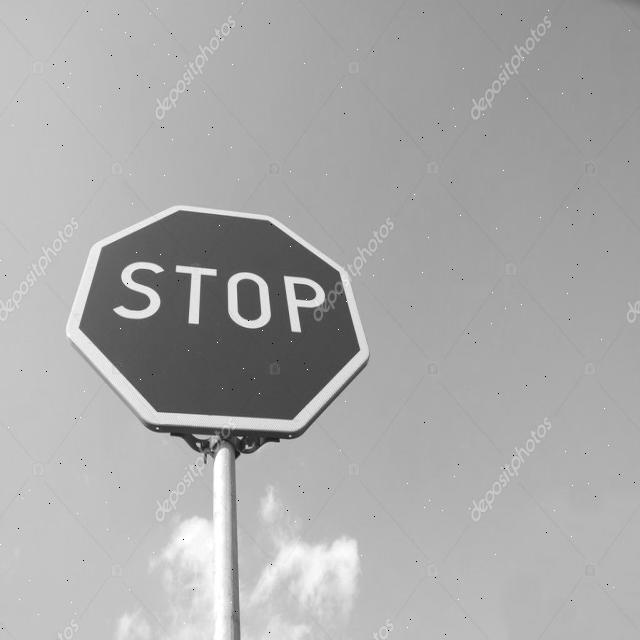Stop-sign: (55, 177, 381, 470)
